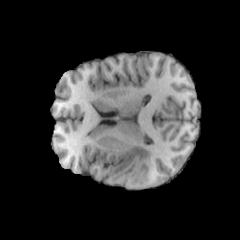glioma: (113, 146, 151, 175)
